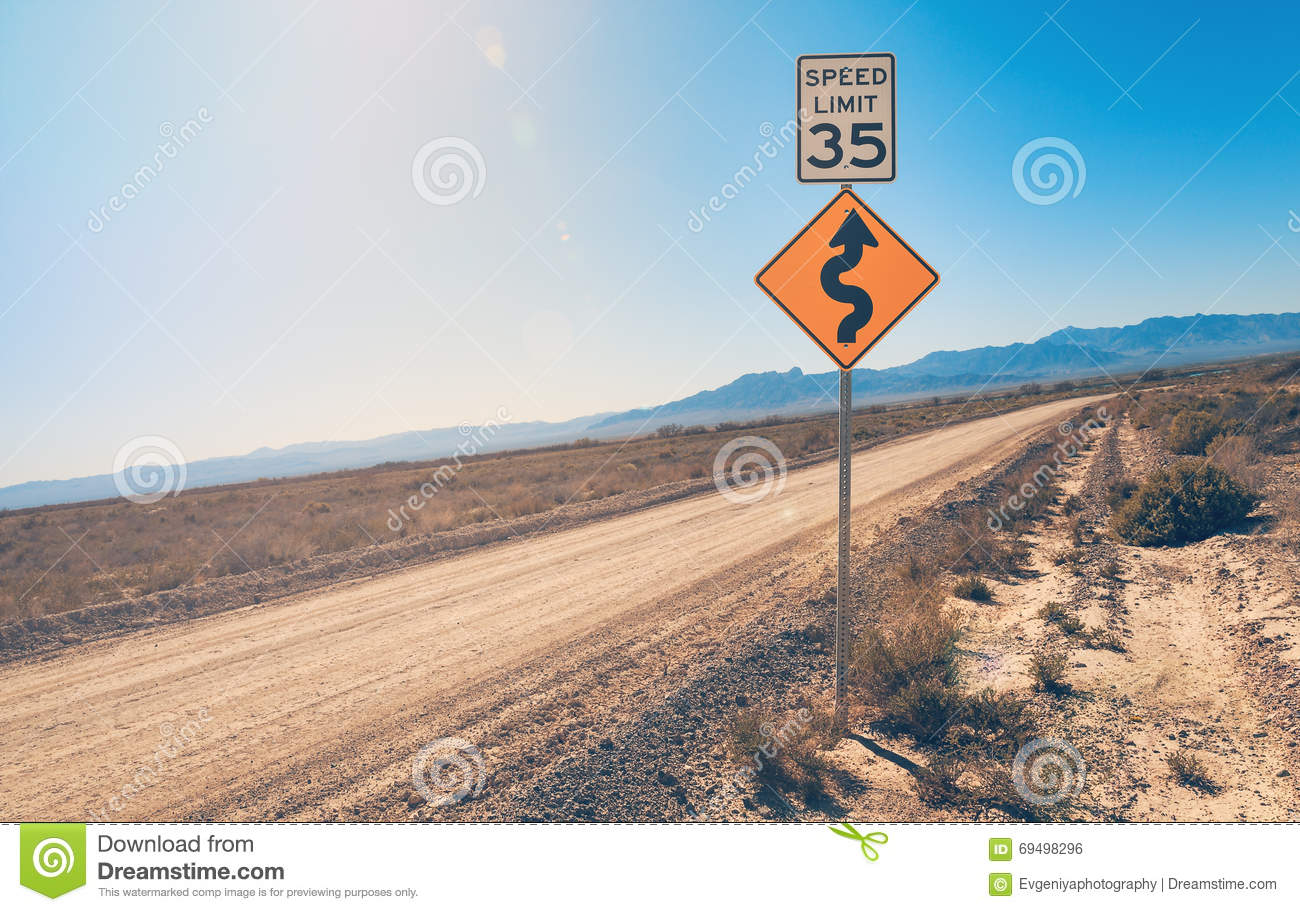speed limit: (755, 14, 934, 214)
